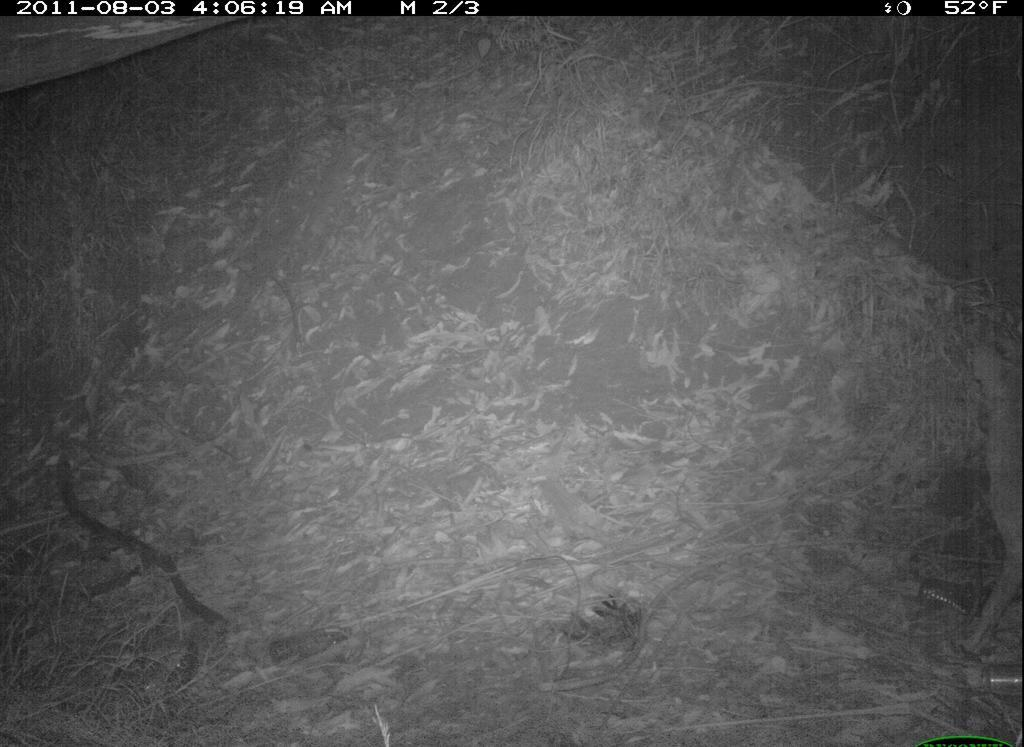coyote: (958, 341, 1022, 660)
